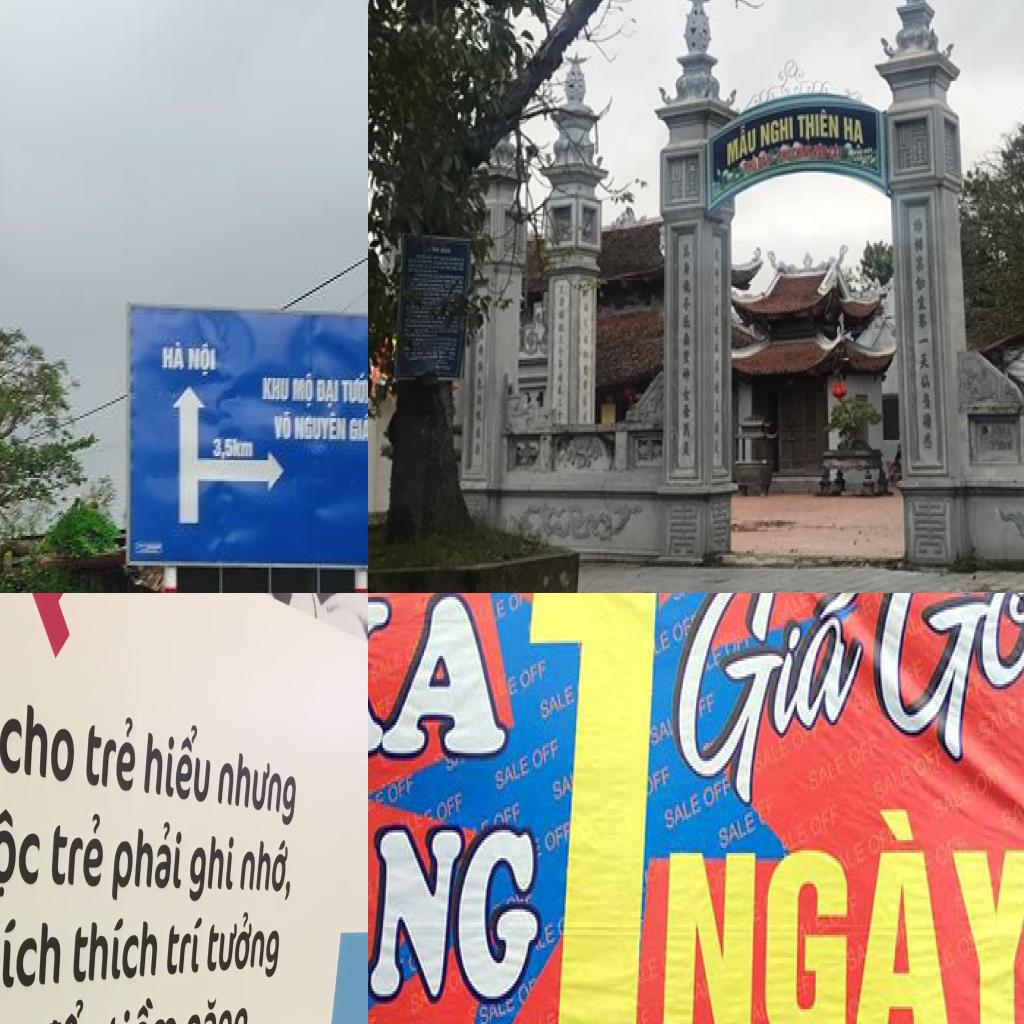text: (658, 796, 1024, 1024), (526, 593, 665, 1024), (660, 593, 886, 811), (368, 786, 545, 1003), (849, 593, 1024, 773), (368, 593, 513, 763), (0, 689, 78, 790), (214, 744, 298, 830), (110, 816, 185, 907), (70, 915, 162, 988), (141, 713, 213, 806), (205, 911, 282, 988), (0, 916, 66, 996), (49, 807, 109, 893), (82, 705, 139, 795), (0, 801, 42, 902), (238, 831, 295, 905), (186, 829, 238, 906), (106, 990, 181, 1024), (32, 991, 109, 1024), (182, 990, 252, 1024), (165, 914, 203, 976), (976, 697, 1022, 748), (870, 761, 916, 807), (716, 810, 760, 856), (806, 750, 850, 796), (930, 779, 974, 825), (537, 679, 579, 725), (664, 789, 705, 835), (293, 410, 349, 443), (492, 750, 532, 796), (752, 732, 792, 778), (796, 106, 841, 146), (726, 118, 759, 171), (972, 756, 1008, 802), (758, 112, 796, 154), (913, 738, 946, 784), (810, 799, 844, 843), (997, 786, 1024, 840), (518, 654, 551, 694), (701, 774, 734, 814), (531, 735, 563, 776), (544, 817, 573, 861), (211, 435, 257, 462), (258, 370, 292, 406), (189, 340, 219, 380), (387, 771, 417, 810), (339, 369, 368, 407), (436, 792, 465, 828), (290, 372, 316, 412), (160, 340, 188, 376), (841, 114, 866, 154), (648, 712, 672, 753), (314, 376, 341, 412), (671, 612, 695, 651), (551, 771, 575, 807), (696, 687, 718, 725), (347, 409, 368, 445), (519, 1006, 561, 1024), (273, 410, 293, 441), (542, 920, 558, 950), (658, 628, 673, 658), (506, 674, 520, 702), (496, 597, 508, 625), (478, 1004, 491, 1024)
